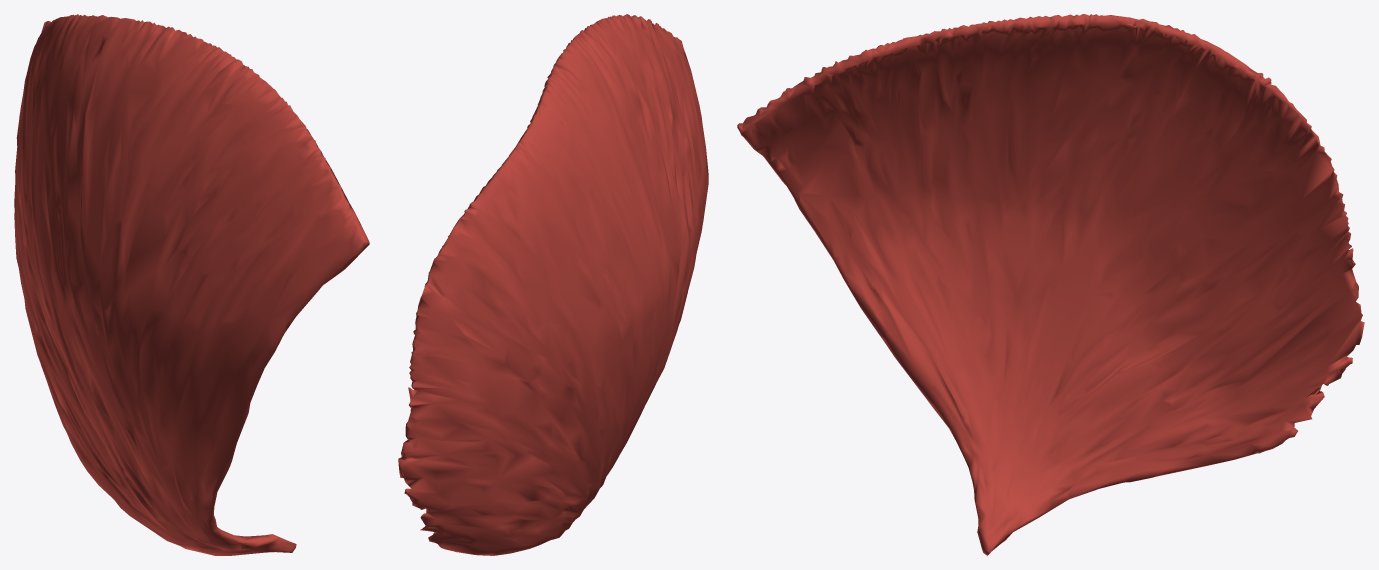
File: musculos-temporoparietalis-muscle-r.glb
3 views of the same model, side by side, from view 1: azimuth 30°, elevation 25°; view 2: azimuth 150°, elevation 25°; view 3: azimuth 270°, elevation 25° (orthographic). The views are drawn at different scales.
Visible parts, largest first — view 1: Temporoparietalis muscle.r; view 2: Temporoparietalis muscle.r; view 3: Temporoparietalis muscle.r.
Part boxes in pixels (left/top/right/bottom): Temporoparietalis muscle.r: left=14, top=14, right=369, bottom=555; Temporoparietalis muscle.r: left=398, top=14, right=708, bottom=555; Temporoparietalis muscle.r: left=737, top=14, right=1364, bottom=555.
Size of the model in its own units: 0.0382 by 0.1029 by 0.1166.
